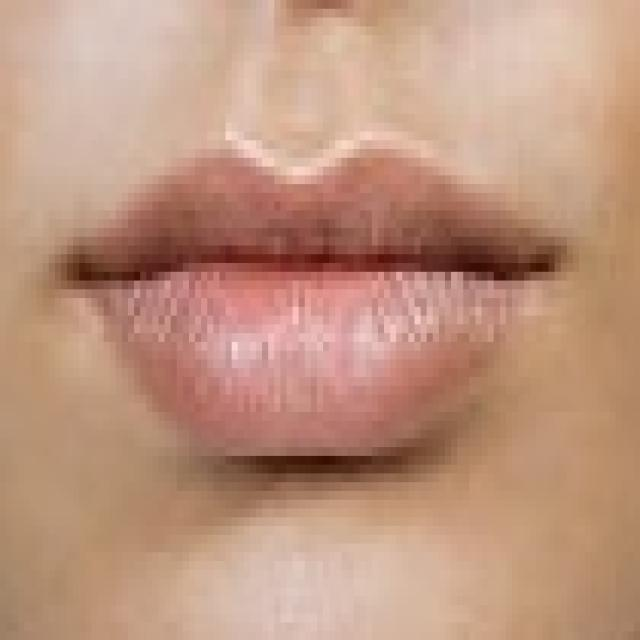closed-mouth: (55, 122, 573, 464)
